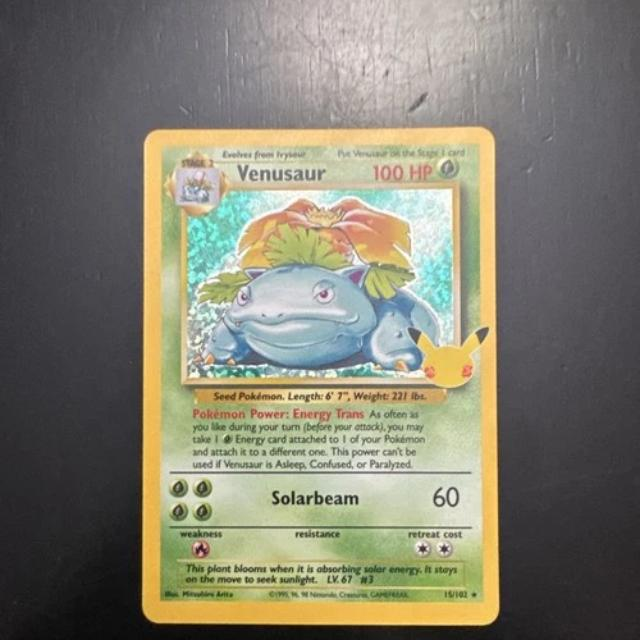Card: (129, 120, 503, 625)
Name: (236, 163, 328, 184)
